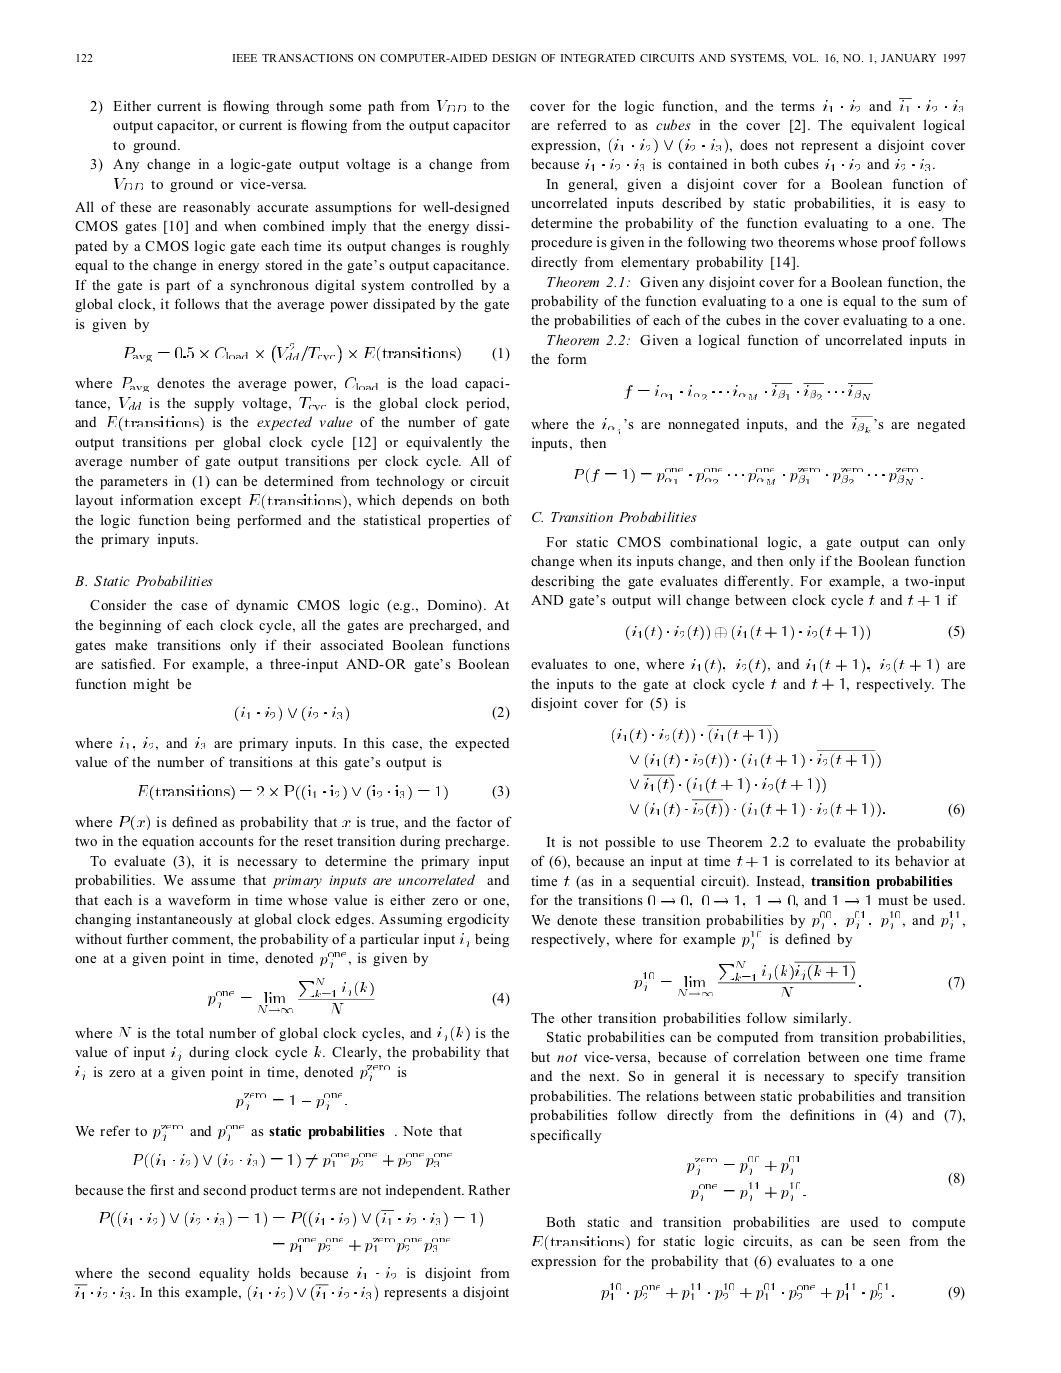formula: (687, 1155, 964, 1201), (634, 960, 964, 997), (208, 977, 509, 1014), (124, 342, 509, 363), (99, 1208, 481, 1227), (601, 1282, 964, 1299), (630, 798, 964, 817), (138, 783, 509, 800), (574, 467, 922, 485), (626, 624, 964, 640), (133, 1152, 451, 1168), (624, 382, 872, 400), (235, 705, 509, 721), (630, 772, 825, 793), (630, 752, 880, 768), (612, 724, 777, 743), (273, 1237, 449, 1252), (236, 1092, 345, 1110)
